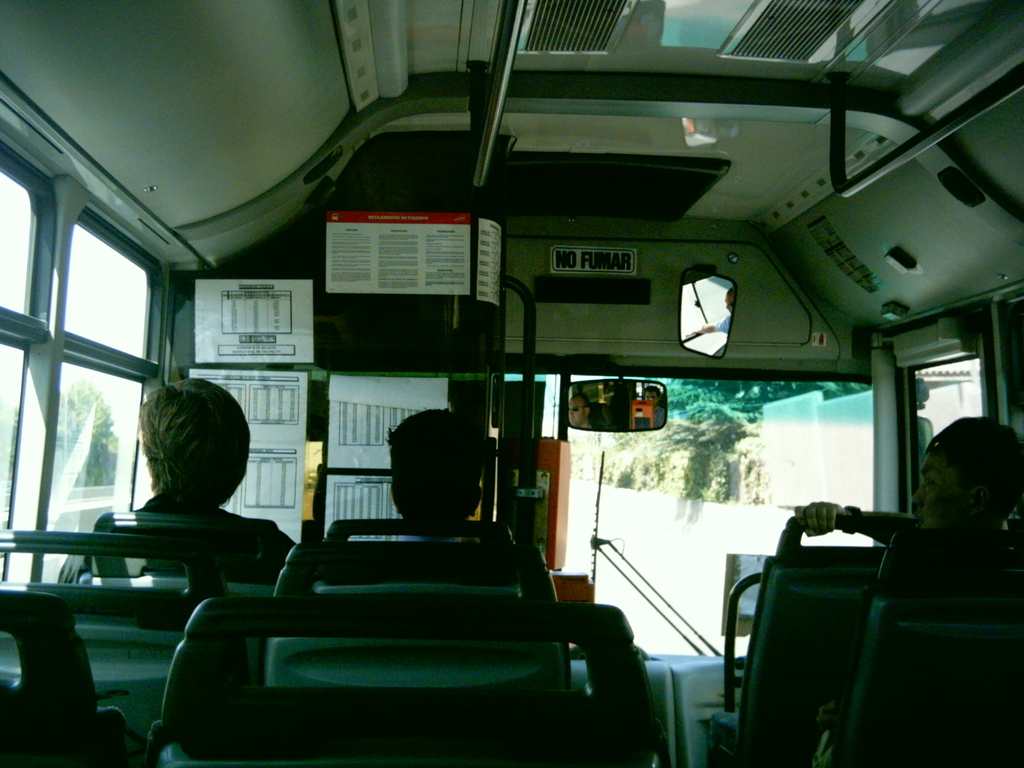Bus: (0, 0, 1022, 767)
